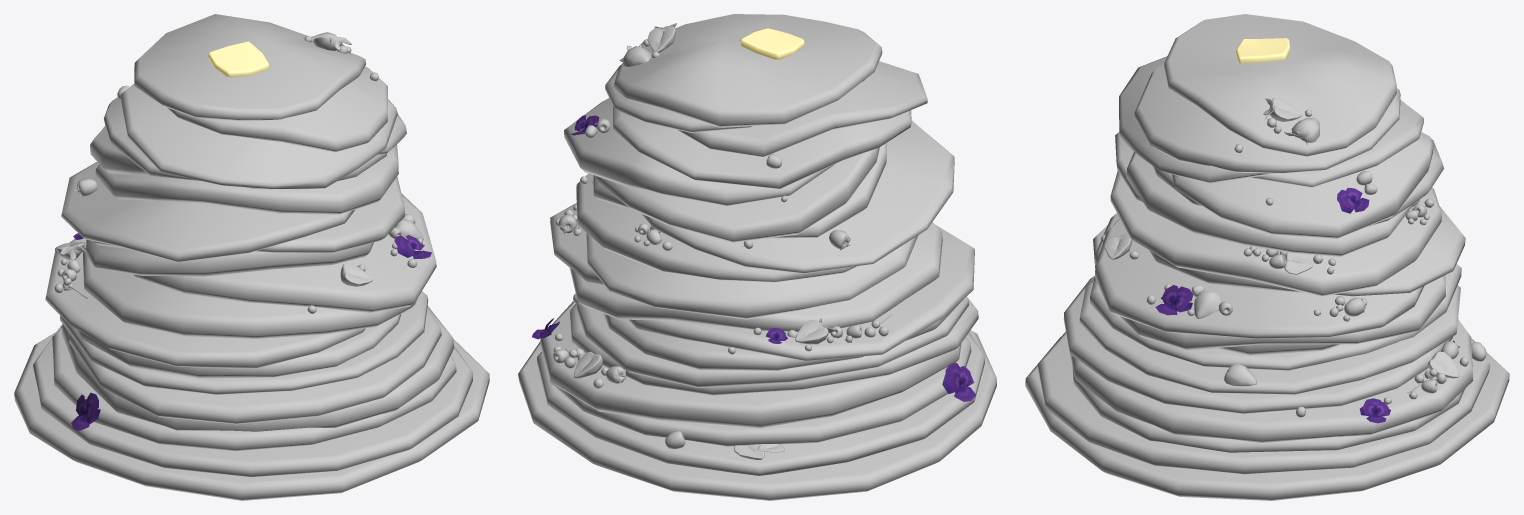
The model's file is pancakes01.fbx.
The picture shows the model from 3 angles, left to right: view 1: azimuth 30°, elevation 25°; view 2: azimuth 150°, elevation 25°; view 3: azimuth 270°, elevation 25°; orthographic projection. The views are drawn at different scales.
Parts seen in each view (by area): view 1: BottomPancakes, ProminentPancakes, topMiddleStack_Pancakes, topPancake, butterPat, pansypetal08, pansypetal09, Strawberry_withoutLeaves_01; view 2: BottomPancakes, topMiddleStack_Pancakes, ProminentPancakes, topPancake, butterPat, pansypetal08, Strawberry_withLeaves_03, Strawberry_withLeaves_02, Strawberry_withLeaves_05; view 3: BottomPancakes, topMiddleStack_Pancakes, ProminentPancakes, topPancake, butterPat, pansypetal09, Strawberry_withLeaves_02, pansypetal07, Strawberry_withoutLeaves_04, Strawberry_withLeaves_04, Strawberry_withoutLeaves_05, pansypetal010 (+2 smaller).
Part boxes in pixels (bbox=[...]): BottomPancakes: bbox=[14, 238, 489, 500]; ProminentPancakes: bbox=[61, 66, 436, 312]; topMiddleStack_Pancakes: bbox=[85, 97, 406, 276]; topPancake: bbox=[134, 14, 365, 120]; butterPat: bbox=[208, 41, 269, 77]; pansypetal08: bbox=[71, 392, 100, 430]; pansypetal09: bbox=[394, 235, 431, 258]; Strawberry_withoutLeaves_01: bbox=[340, 263, 372, 286]; BottomPancakes: bbox=[518, 222, 996, 500]; topMiddleStack_Pancakes: bbox=[564, 98, 918, 319]; ProminentPancakes: bbox=[550, 61, 954, 285]; topPancake: bbox=[614, 14, 882, 127]; butterPat: bbox=[740, 28, 804, 59]; pansypetal08: bbox=[942, 363, 975, 401]; Strawberry_withLeaves_03: bbox=[795, 318, 835, 344]; Strawberry_withLeaves_02: bbox=[647, 23, 676, 52]; Strawberry_withLeaves_05: bbox=[574, 351, 602, 378]; BottomPancakes: bbox=[1025, 213, 1509, 500]; topMiddleStack_Pancakes: bbox=[1110, 99, 1465, 296]; ProminentPancakes: bbox=[1094, 56, 1424, 338]; topPancake: bbox=[1164, 14, 1396, 156]; butterPat: bbox=[1235, 38, 1289, 63]; pansypetal09: bbox=[1155, 285, 1193, 315]; Strawberry_withLeaves_02: bbox=[1263, 97, 1301, 121]; pansypetal07: bbox=[1337, 188, 1369, 213]; Strawberry_withoutLeaves_04: bbox=[1194, 291, 1222, 318]; Strawberry_withLeaves_04: bbox=[1284, 117, 1319, 145]; Strawberry_withoutLeaves_05: bbox=[1224, 363, 1256, 386]; pansypetal010: bbox=[1359, 398, 1390, 423].
Bounding box in the file's own units: 7.82 × 6.67 × 8.09.
